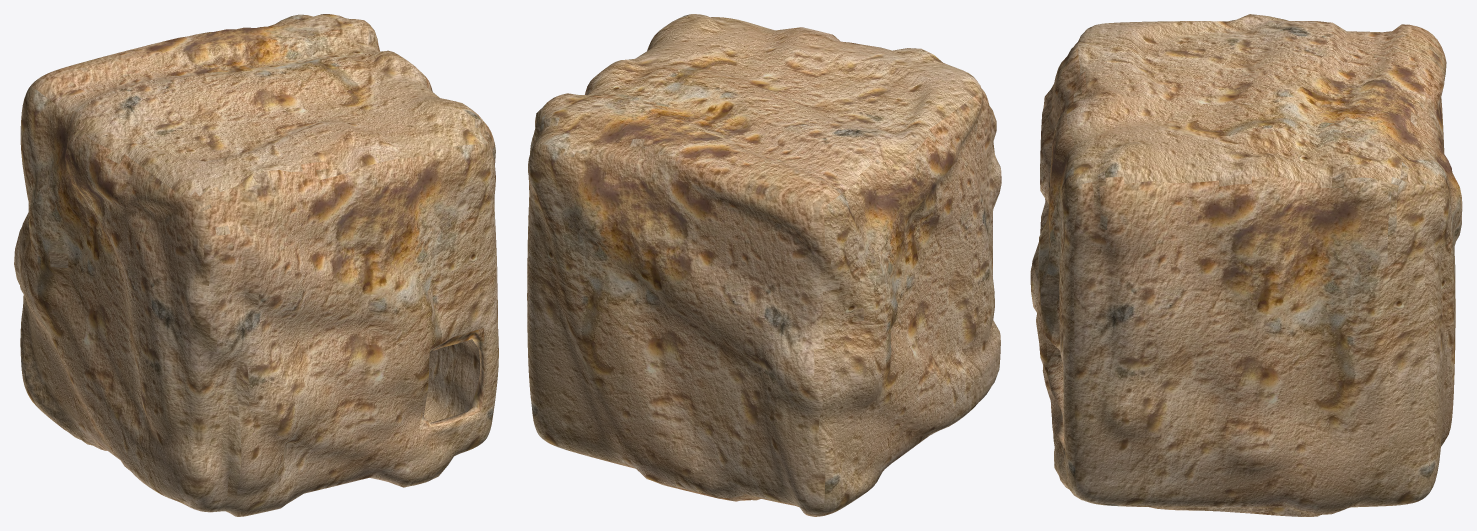
The model's file is squarestonehole.glb.
3 renders of one model, left to right at view 1: azimuth 30°, elevation 25°; view 2: azimuth 150°, elevation 25°; view 3: azimuth 270°, elevation 25°, orthographic. The views are drawn at different scales.
Parts seen in each view (by area): view 1: Cube.001; view 2: Cube.001; view 3: Cube.001.
Boxes of the visible parts, x1,y1,x2,y2 form: Cube.001: (14, 14, 498, 516); Cube.001: (527, 14, 1001, 516); Cube.001: (1030, 14, 1462, 516).
Bounding box in the file's own units: 2.15 × 2.1 × 2.21.
Materials: 1 (1 with a texture image).
